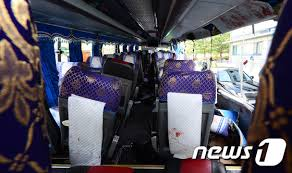seat: (161, 66, 211, 154)
